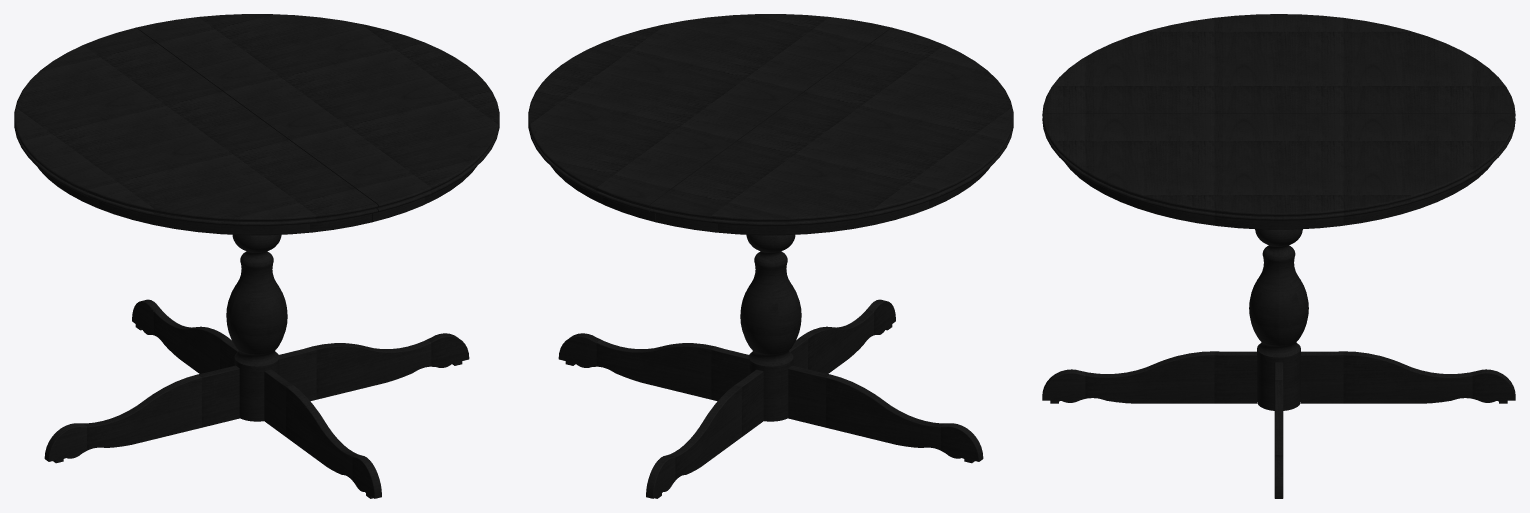
The picture shows the model from 3 angles, left to right: view 1: azimuth 30°, elevation 25°; view 2: azimuth 150°, elevation 25°; view 3: azimuth 270°, elevation 25°; orthographic projection. The views are drawn at different scales.
Visible parts, largest first — view 1: Revit_056301_35; view 2: Revit_056301_35; view 3: Revit_056301_35.
Boxes of the visible parts, left/top/right/bottom form: Revit_056301_35: left=14, top=14, right=499, bottom=498; Revit_056301_35: left=528, top=14, right=1013, bottom=498; Revit_056301_35: left=1042, top=14, right=1515, bottom=498.
Bounding box in the file's own units: 1100 × 740 × 1100.
